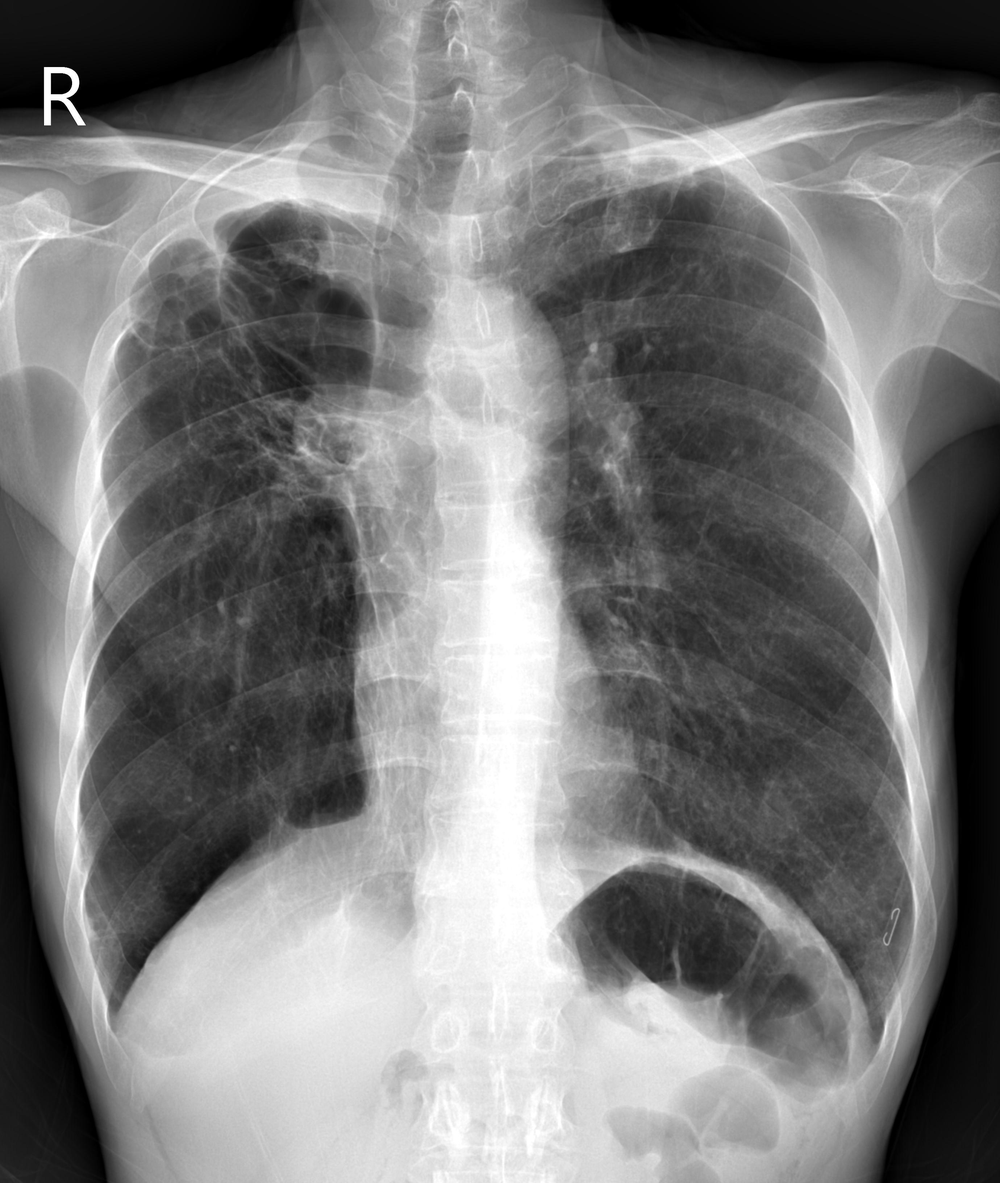Pleural thickening: (174, 138, 401, 246), (590, 114, 714, 169)
Pulmonary fibrosis: (109, 232, 365, 531), (571, 160, 697, 285)
